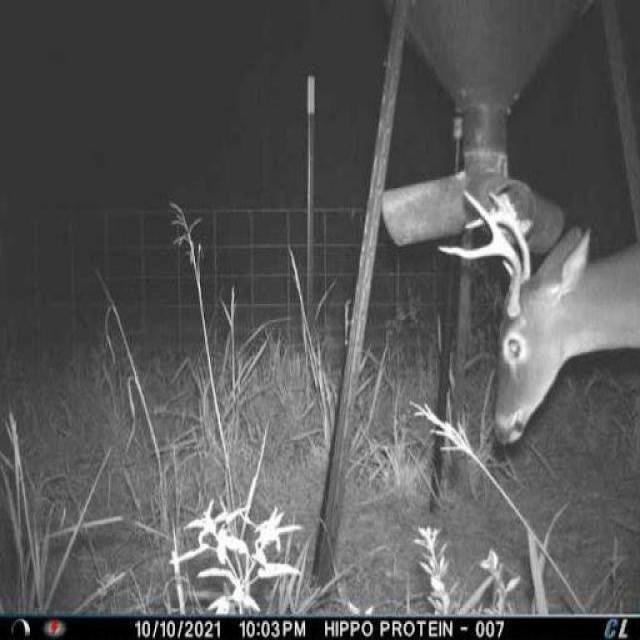deer: (430, 182, 640, 461)
